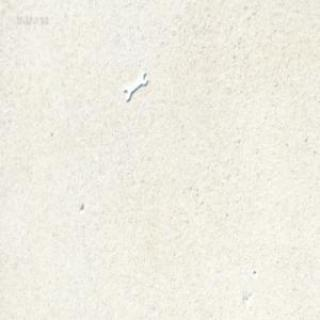Wrenchtrack_idkeyframe: (123, 71, 146, 101)
